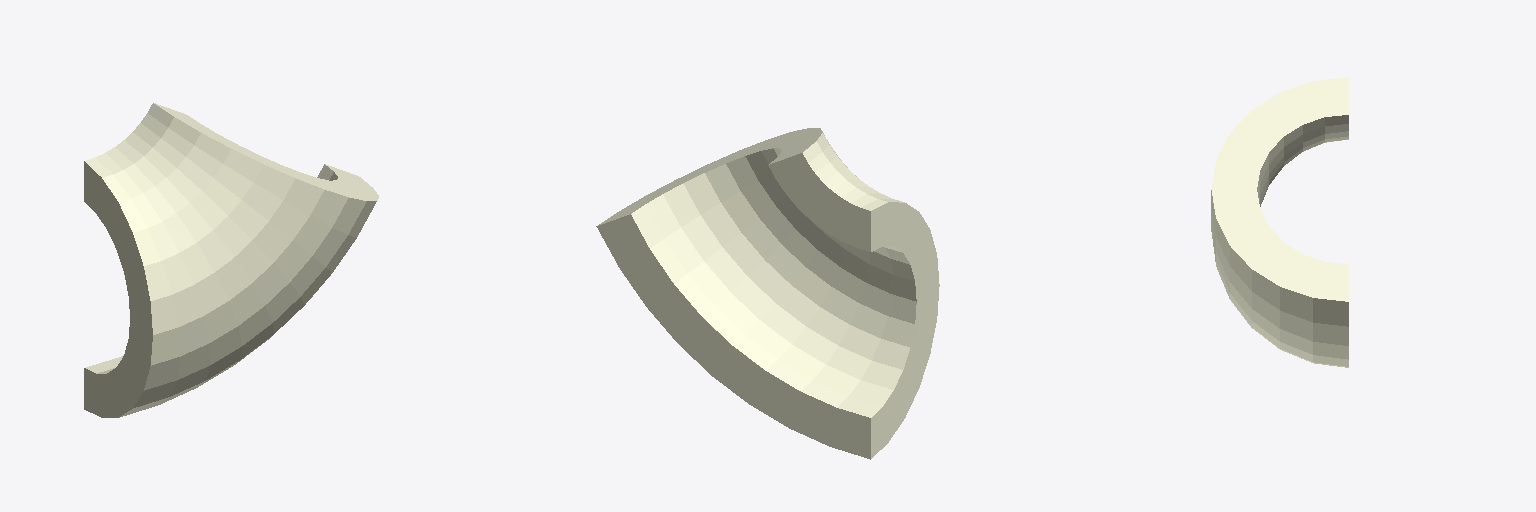
File: section_012.obj
3 renders of one model, left to right at view 1: azimuth 30°, elevation 25°; view 2: azimuth 150°, elevation 25°; view 3: azimuth 270°, elevation 25°, orthographic.
Bounding box in the file's own units: 6.94 × 7 × 3.